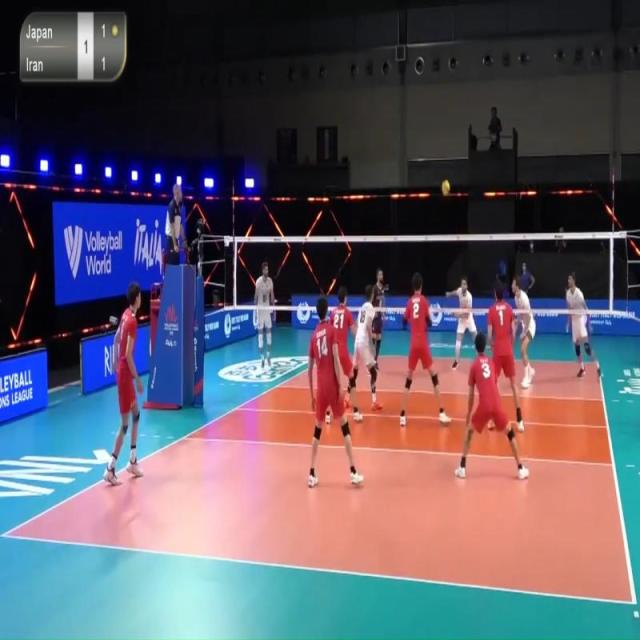volleyball: (439, 178, 451, 198)
